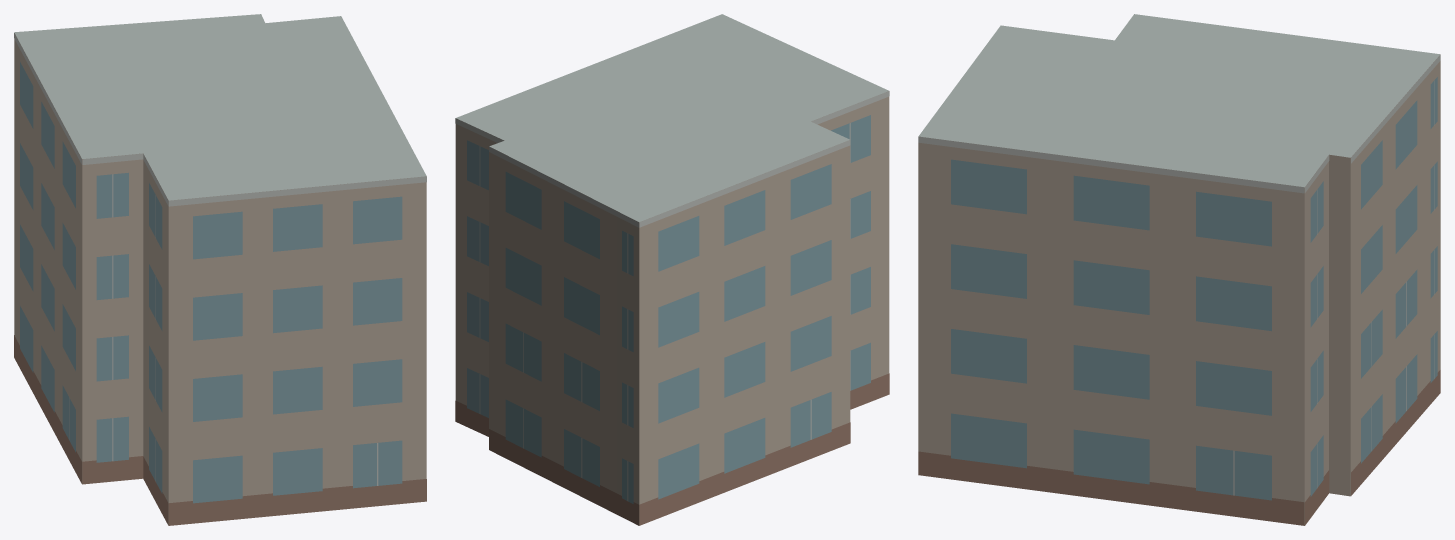
File: survey-upis-32808912.glb
3 views of the same model, side by side, from view 1: azimuth 30°, elevation 25°; view 2: azimuth 150°, elevation 25°; view 3: azimuth 270°, elevation 25° (orthographic). The views are drawn at different scales.
Visible parts, largest first — view 1: survey-upis-32808912.tmp; view 2: survey-upis-32808912.tmp; view 3: survey-upis-32808912.tmp.
Part boxes in pixels (left/top/right/bottom): survey-upis-32808912.tmp: left=14, top=14, right=426, bottom=525; survey-upis-32808912.tmp: left=455, top=14, right=889, bottom=525; survey-upis-32808912.tmp: left=918, top=14, right=1440, bottom=525.
Bounding box in the file's own units: 14.55 × 13.25 × 18.53.
